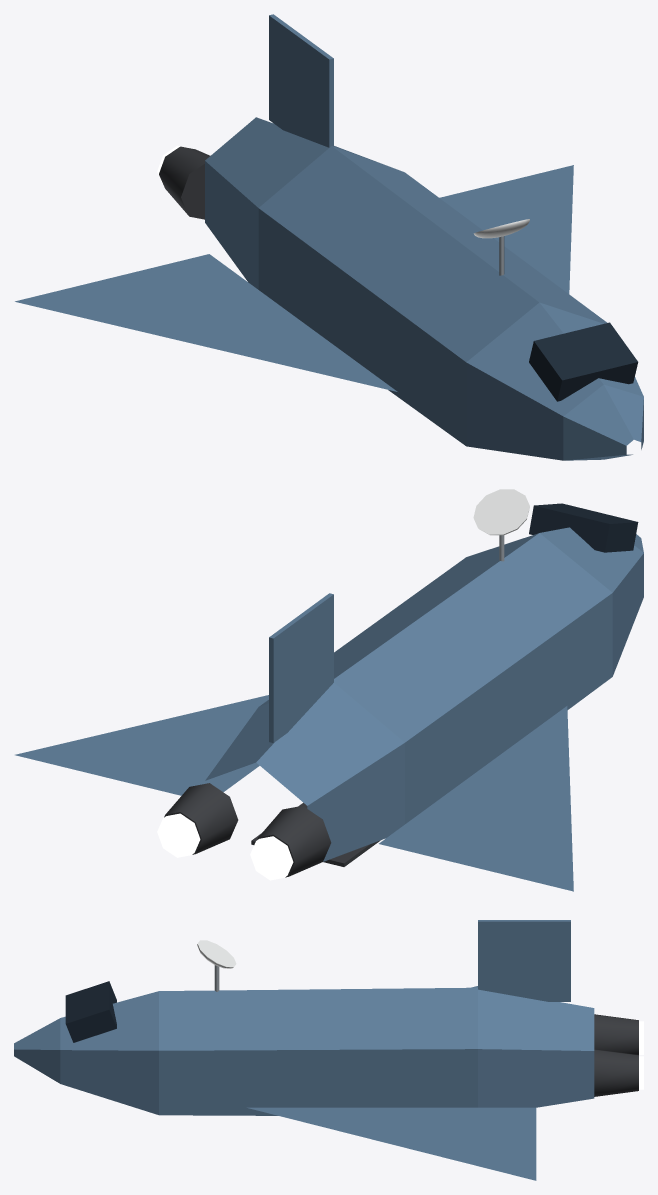
The model's file is space_ship_shuttle_mk6.glb.
3 views of the same model, one above another, from view 1: azimuth 30°, elevation 25°; view 2: azimuth 150°, elevation 25°; view 3: azimuth 270°, elevation 25° (orthographic). The views are drawn at different scales.
Visible parts, largest first — view 1: body, engine_1, antenna_0; view 2: body, engine_1, engine_0, antenna_0; view 3: body, engine_0, engine_1, antenna_0.
Boxes of the visible parts, bbox=[...] form: body: bbox=[15, 14, 643, 460]; engine_1: bbox=[157, 145, 210, 219]; antenna_0: bbox=[473, 219, 529, 275]; body: bbox=[15, 503, 643, 891]; engine_1: bbox=[250, 805, 331, 880]; engine_0: bbox=[157, 783, 238, 857]; antenna_0: bbox=[473, 489, 529, 561]; body: bbox=[14, 920, 594, 1180]; engine_0: bbox=[594, 1049, 643, 1096]; engine_1: bbox=[594, 1014, 643, 1054]; antenna_0: bbox=[197, 940, 236, 991].
Size of what is drawn, in the model's own units: 12.32 by 4.99 by 15.64.
